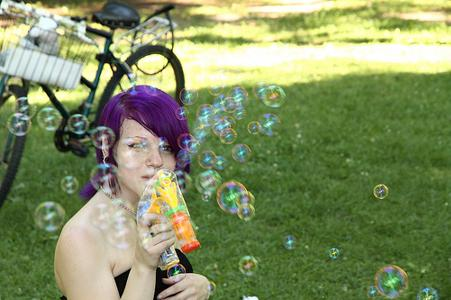person: (56, 84, 213, 300)
